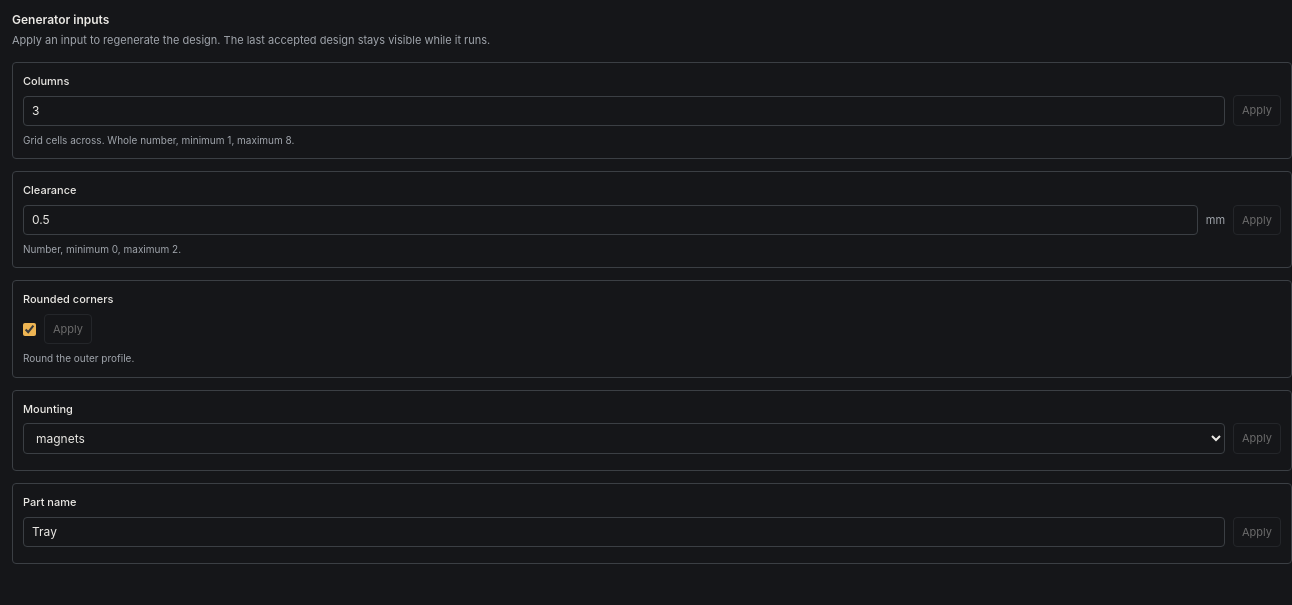
Test: source-driven generator inputs › retains invalid Columns text 1.5 without a request
Replace the text in the field labelled "Columns" with "1.5". click: [624, 111]
box: left=23, top=96, right=1225, bottom=126
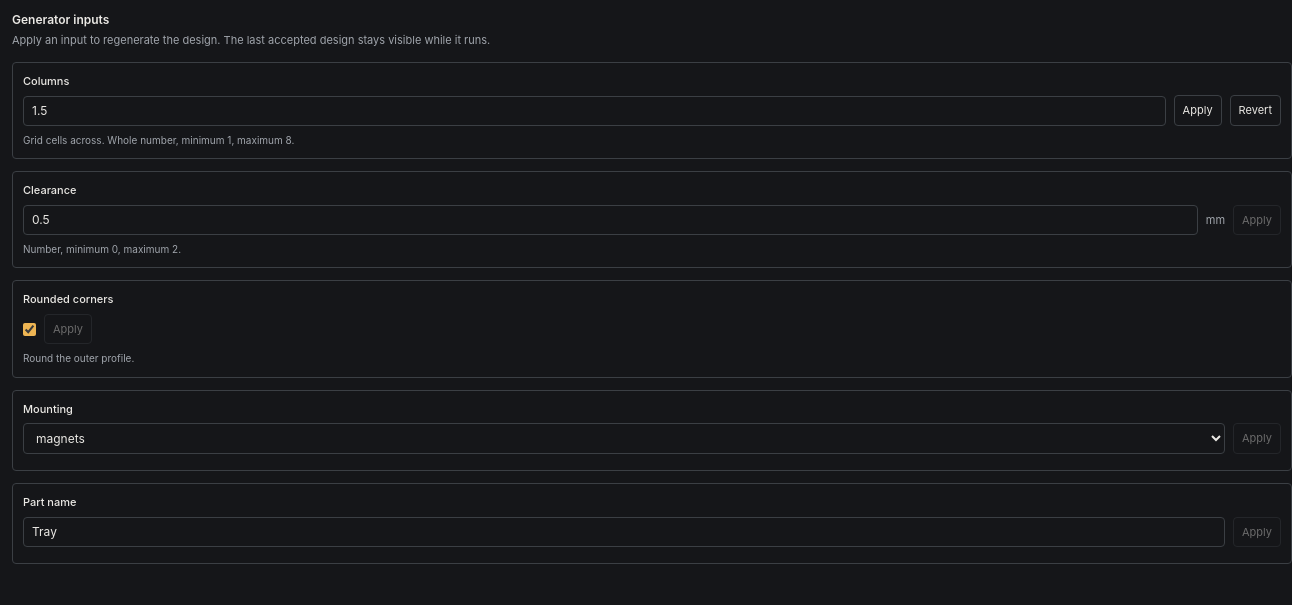
Click the button with aria-label "Apply Columns". click: [1198, 111]
box: left=1174, top=95, right=1222, bottom=126
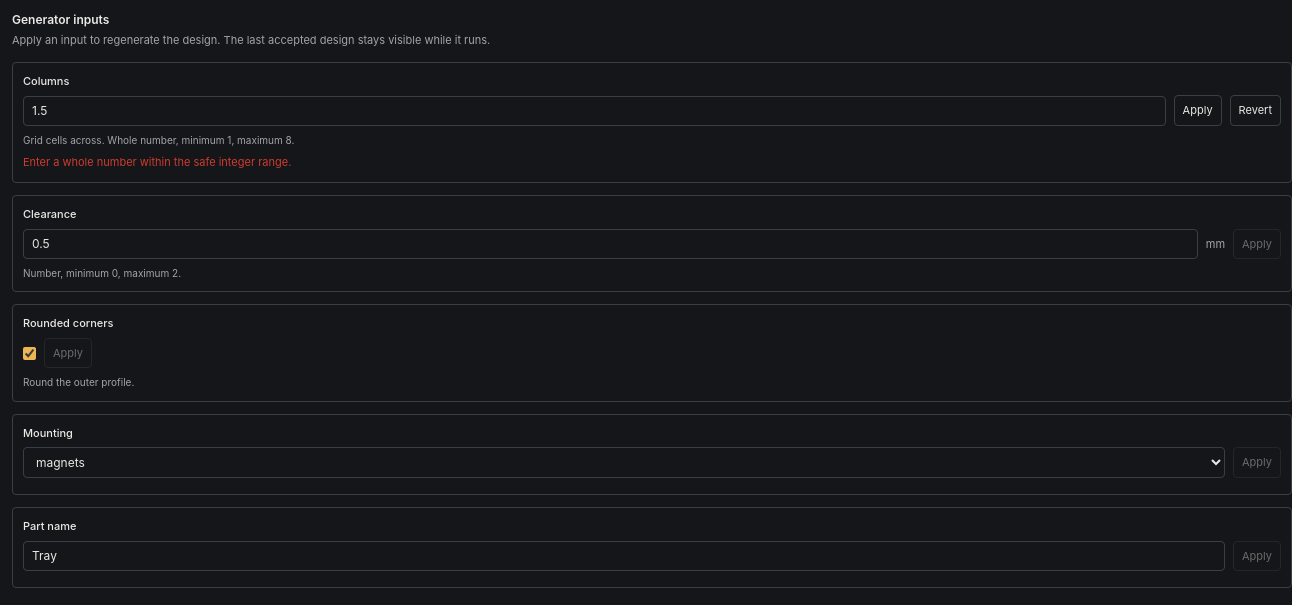
Expected: the message shows "whole number", left=23, top=155, right=291, bottom=169
